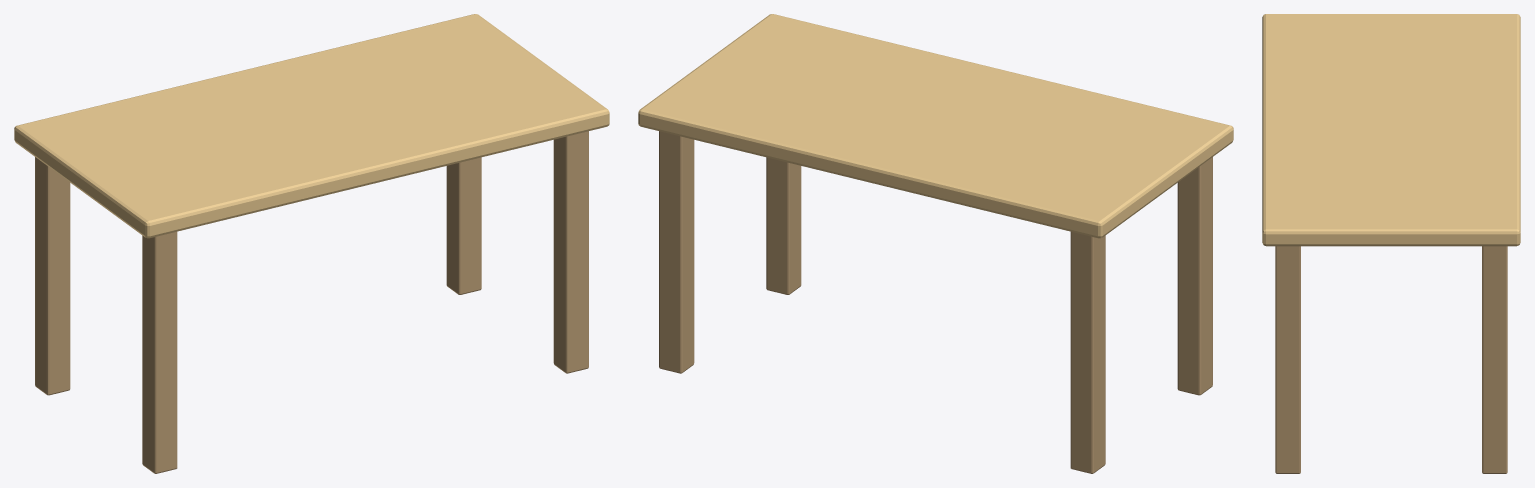
The model's file is desk.glb.
3 renders of one model, left to right at view 1: azimuth 30°, elevation 25°; view 2: azimuth 150°, elevation 25°; view 3: azimuth 270°, elevation 25°, orthographic. The views are drawn at different scales.
Visible parts, largest first — view 1: desk.glb; view 2: desk.glb; view 3: desk.glb.
Part boxes in pixels (x1,y1,x2,y2): desk.glb: [14, 14, 609, 473]; desk.glb: [638, 14, 1233, 473]; desk.glb: [1262, 14, 1520, 473].
Size of the model in its own units: 1.4 by 0.75 by 0.7.
